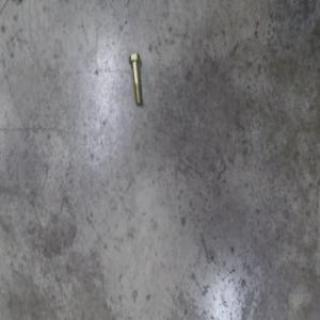Bolttrack_idkeyframe: (129, 50, 143, 103)
